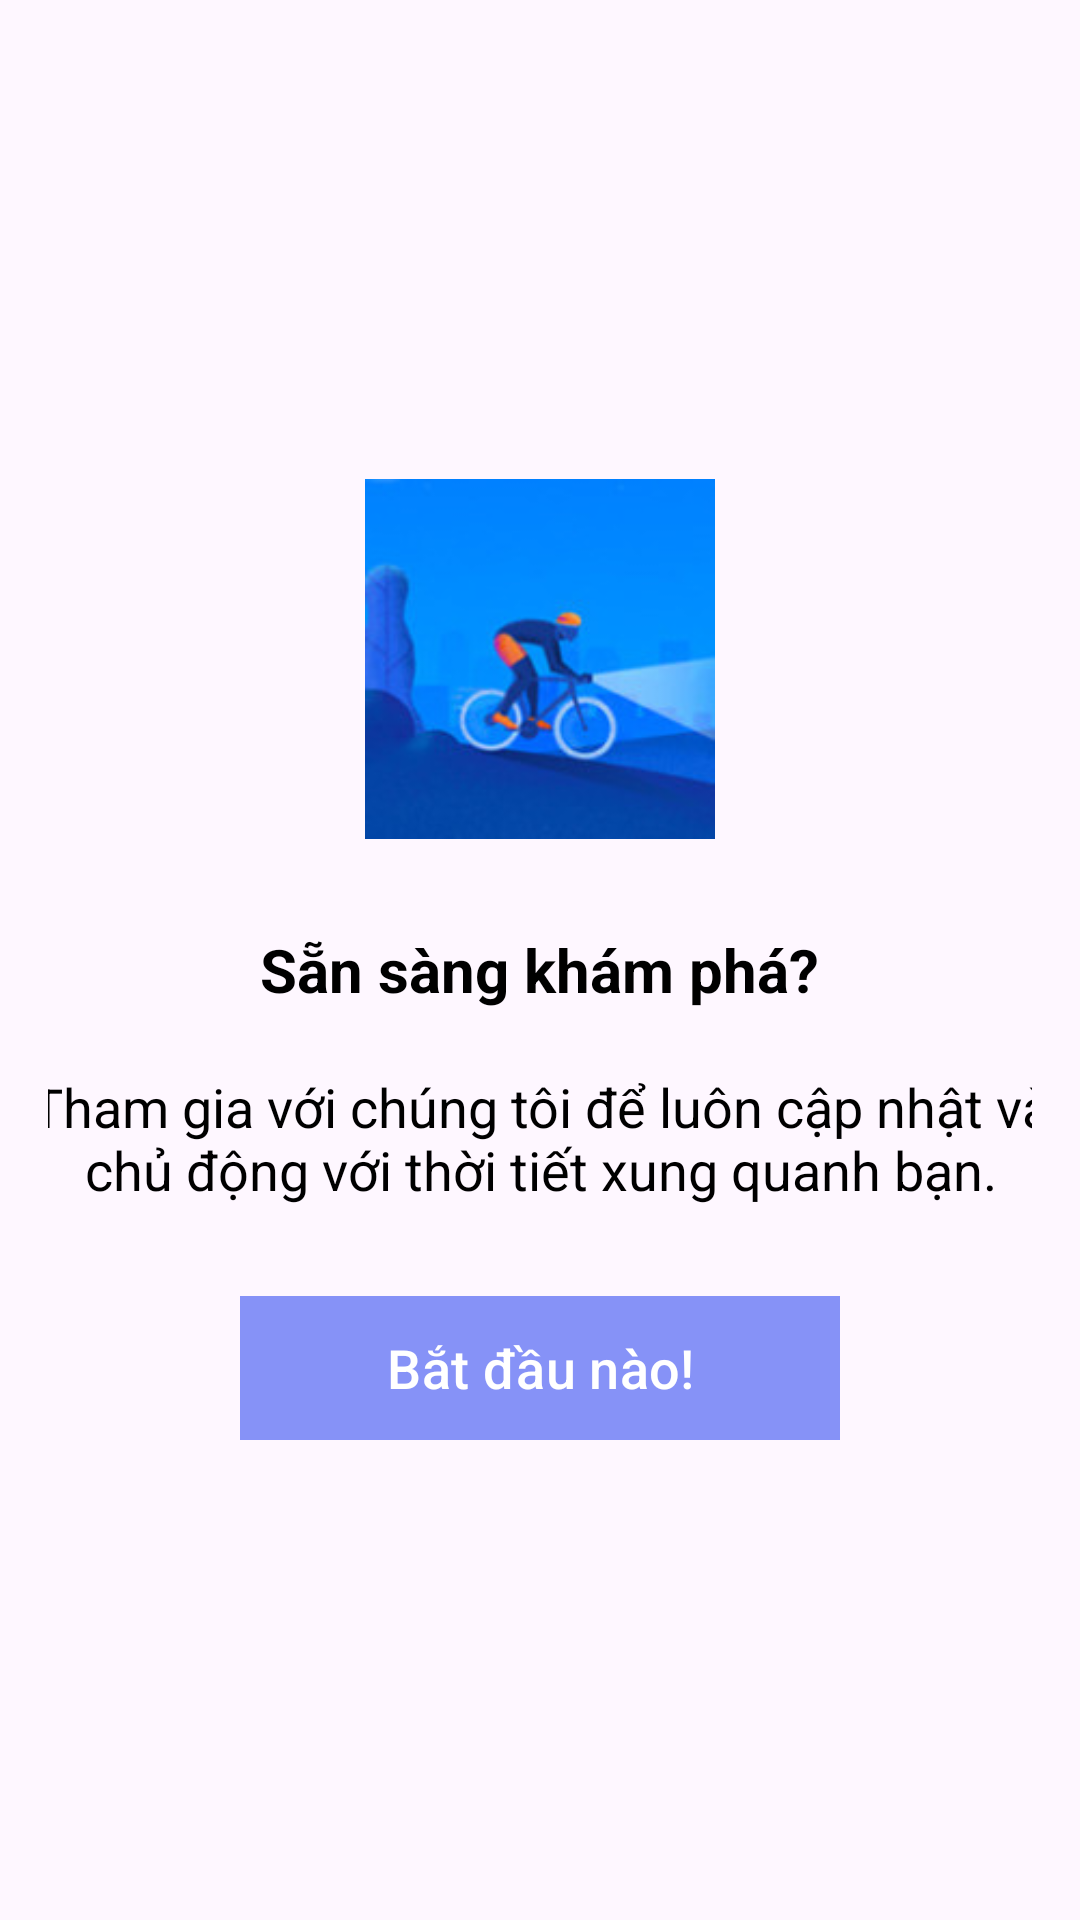

Screen size 1080*1920. Icon name, then its box in pixels as [x1=x1, y1=y1, x2=x2, y2=y2]:
xedap: [x1=365, y1=479, x2=715, y2=839]
